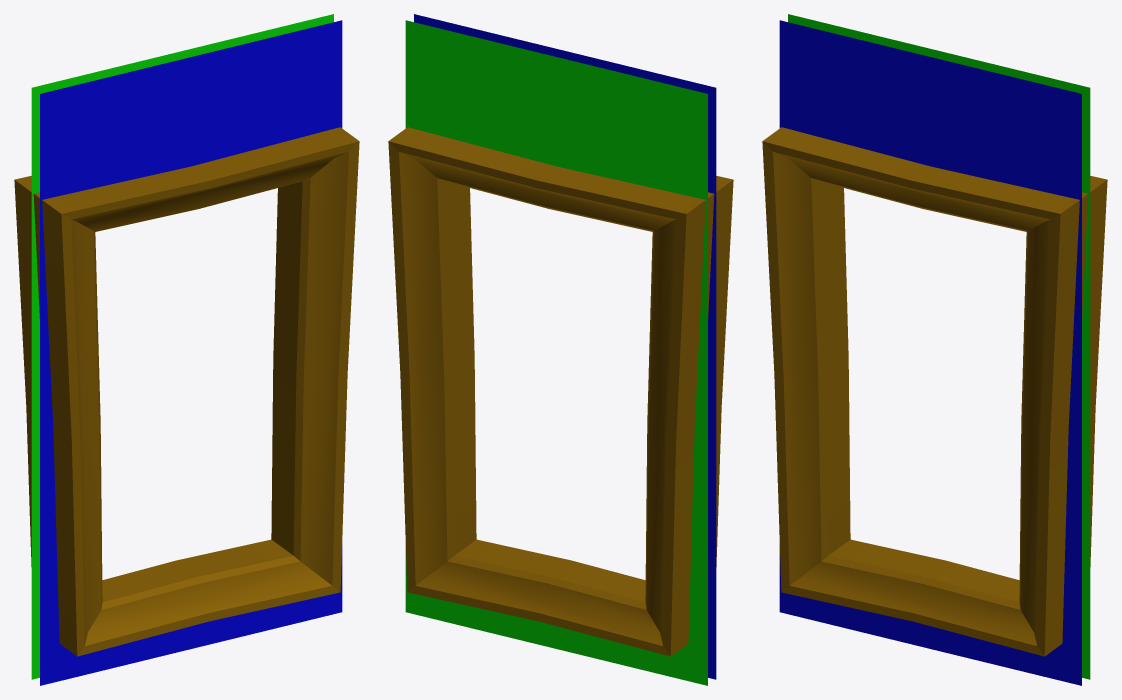
File: paredventana2_corta.fbx
3 views of the same model, side by side, from view 1: azimuth 30°, elevation 25°; view 2: azimuth 150°, elevation 25°; view 3: azimuth 330°, elevation 25° (orthographic).
Visible parts, largest first — view 1: paredventana2_corta; view 2: paredventana2_corta; view 3: paredventana2_corta.
Boxes of the visible parts, x1,y1,x2,y2 form: paredventana2_corta: [14, 14, 359, 685]; paredventana2_corta: [388, 14, 733, 685]; paredventana2_corta: [762, 14, 1107, 685].
Size of the model in its own units: 139 by 260 by 37.38.
